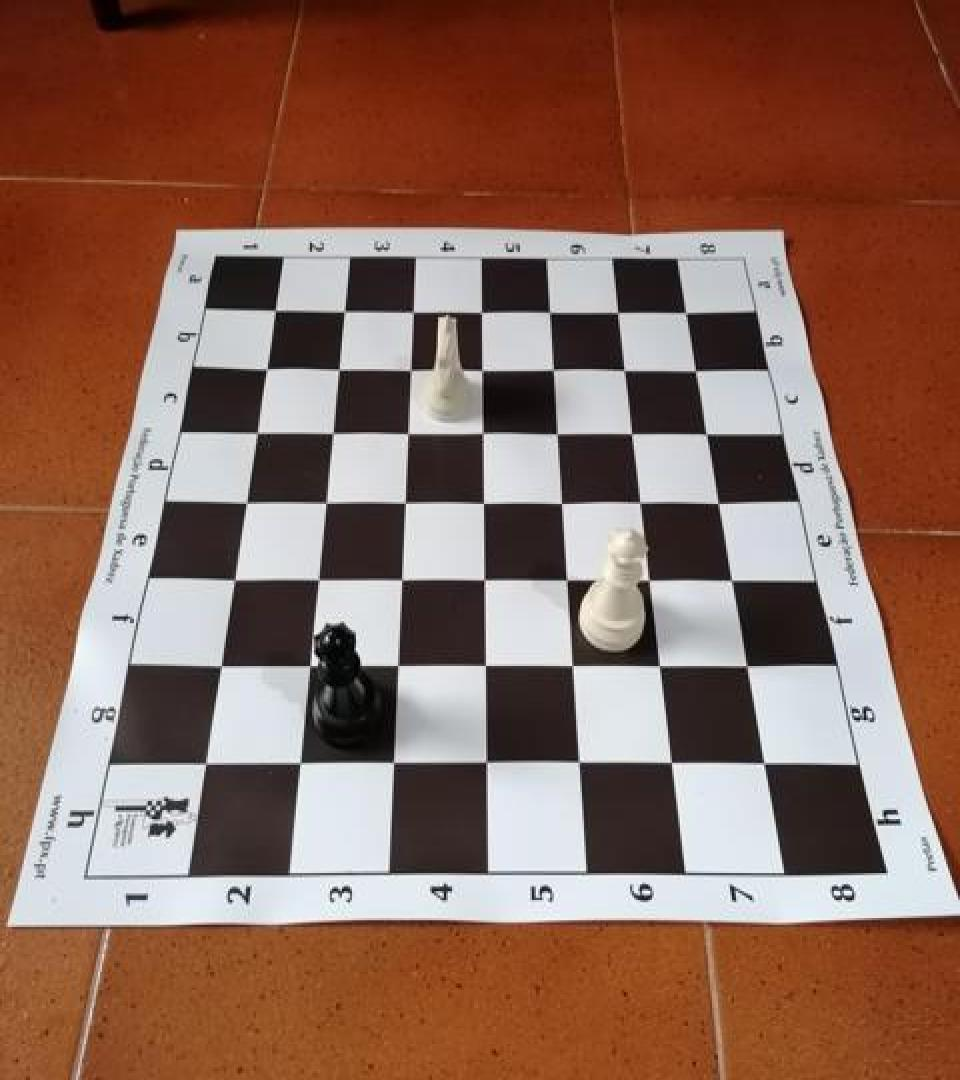xcorner: (610, 353, 644, 392), (539, 353, 573, 392), (467, 353, 501, 392), (395, 353, 429, 392), (647, 650, 681, 689), (559, 650, 593, 689), (471, 650, 505, 689), (285, 749, 319, 788), (191, 749, 225, 788), (671, 296, 705, 334), (603, 296, 637, 334), (535, 296, 569, 334), (466, 295, 500, 333), (397, 295, 431, 333), (328, 294, 362, 332), (258, 294, 292, 332), (681, 354, 715, 392), (322, 352, 356, 390), (250, 352, 284, 390), (692, 418, 726, 456), (618, 418, 652, 456), (543, 418, 577, 456), (468, 416, 502, 454), (392, 416, 426, 454), (316, 416, 350, 454), (240, 416, 274, 454), (705, 487, 739, 525), (626, 487, 660, 525), (548, 487, 582, 525), (469, 487, 503, 525), (390, 487, 424, 525), (310, 487, 344, 525), (230, 487, 264, 525), (718, 564, 752, 602), (636, 564, 670, 602), (553, 565, 587, 603), (470, 565, 504, 603), (387, 565, 421, 603), (303, 565, 337, 603), (218, 565, 252, 603), (733, 649, 767, 687), (383, 652, 417, 690), (294, 652, 328, 690), (205, 652, 239, 690), (750, 745, 784, 783), (658, 746, 692, 784), (566, 747, 600, 785), (473, 747, 507, 785), (379, 748, 413, 786)
